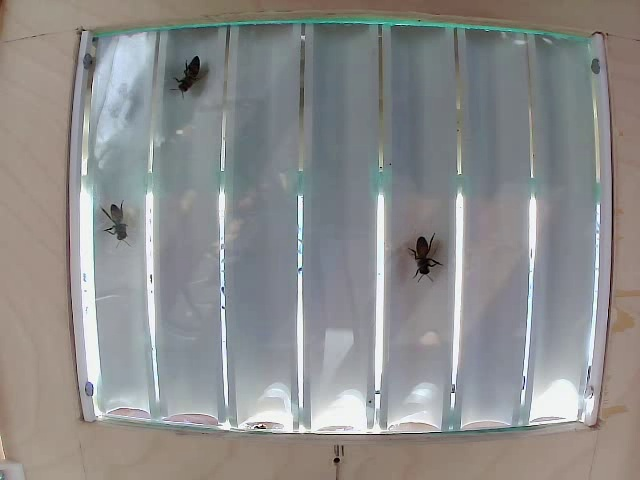bee: (413, 228, 451, 279), (159, 58, 204, 100), (113, 202, 147, 250)
